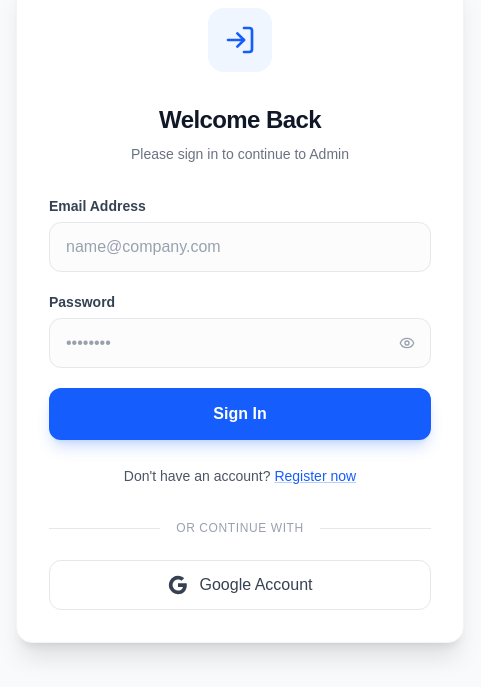
Test: AdminLoginContent › shows validation error for invalid email
Type "invalid-email" into the field with placeholder "name@company.com".
click(240, 247); type("invalid-email")  # box x1=49 y1=222 x2=431 y2=272
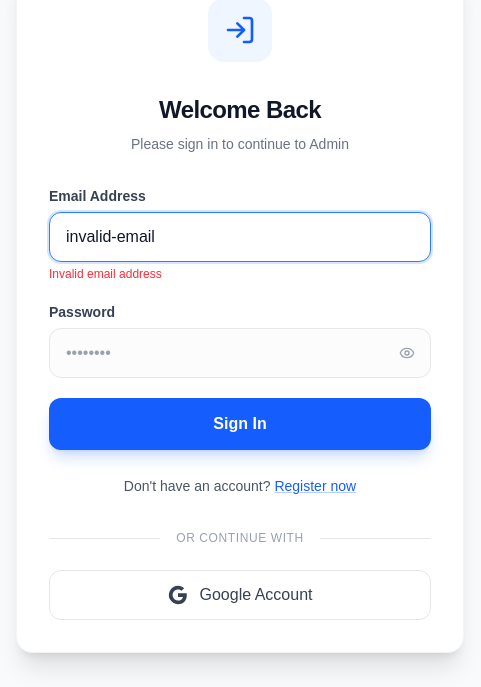
Result: the text with test id "email-error" reads "Invalid email address" at x1=49 y1=267 x2=162 y2=281
